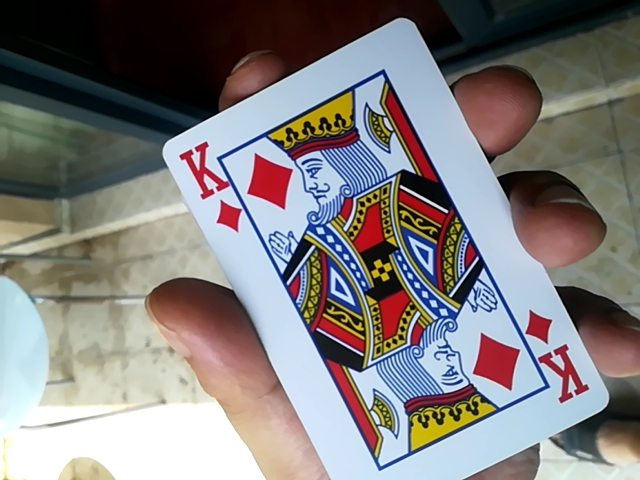fk k: (162, 25, 604, 480)
